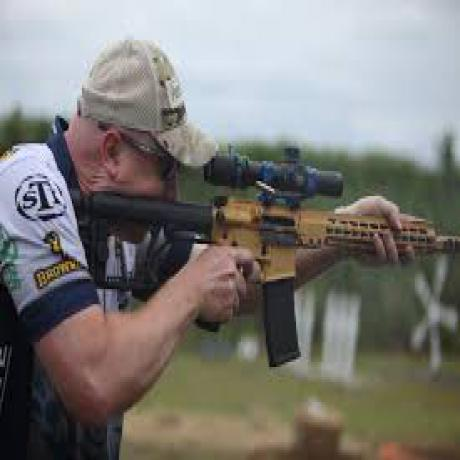Guns: (77, 143, 458, 367)
